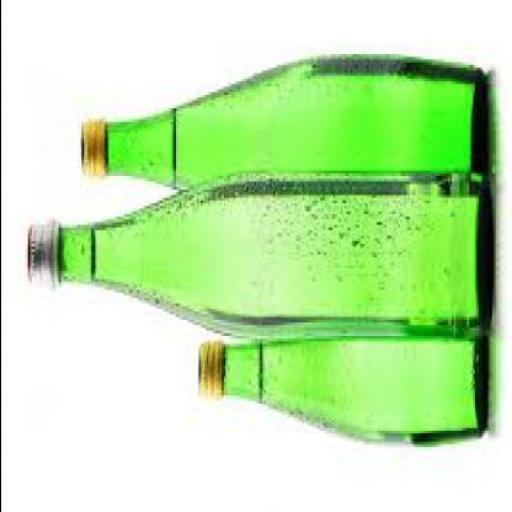glass: (56, 168, 488, 338), (103, 52, 485, 190), (220, 328, 485, 444)
metal: (24, 214, 56, 293), (77, 117, 109, 178), (192, 338, 224, 392)
